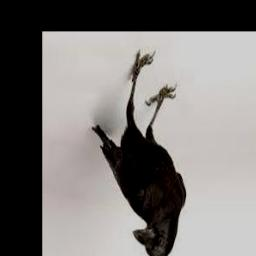Crow: (92, 49, 187, 256)
